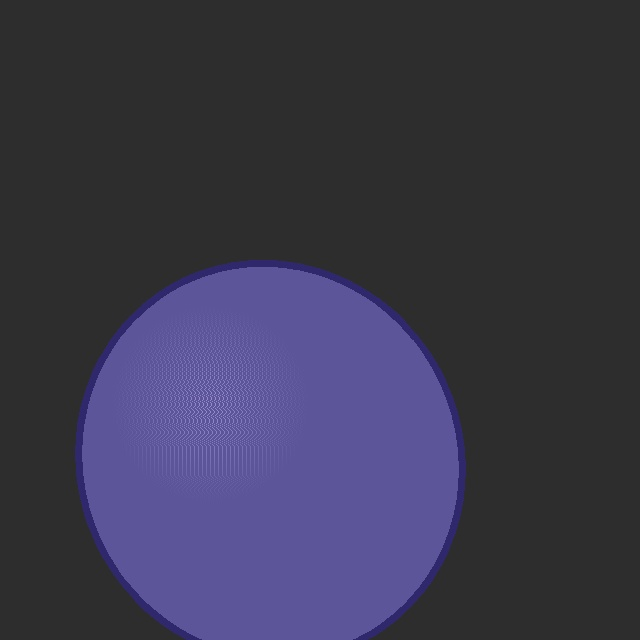lens: (79, 264, 461, 640)
